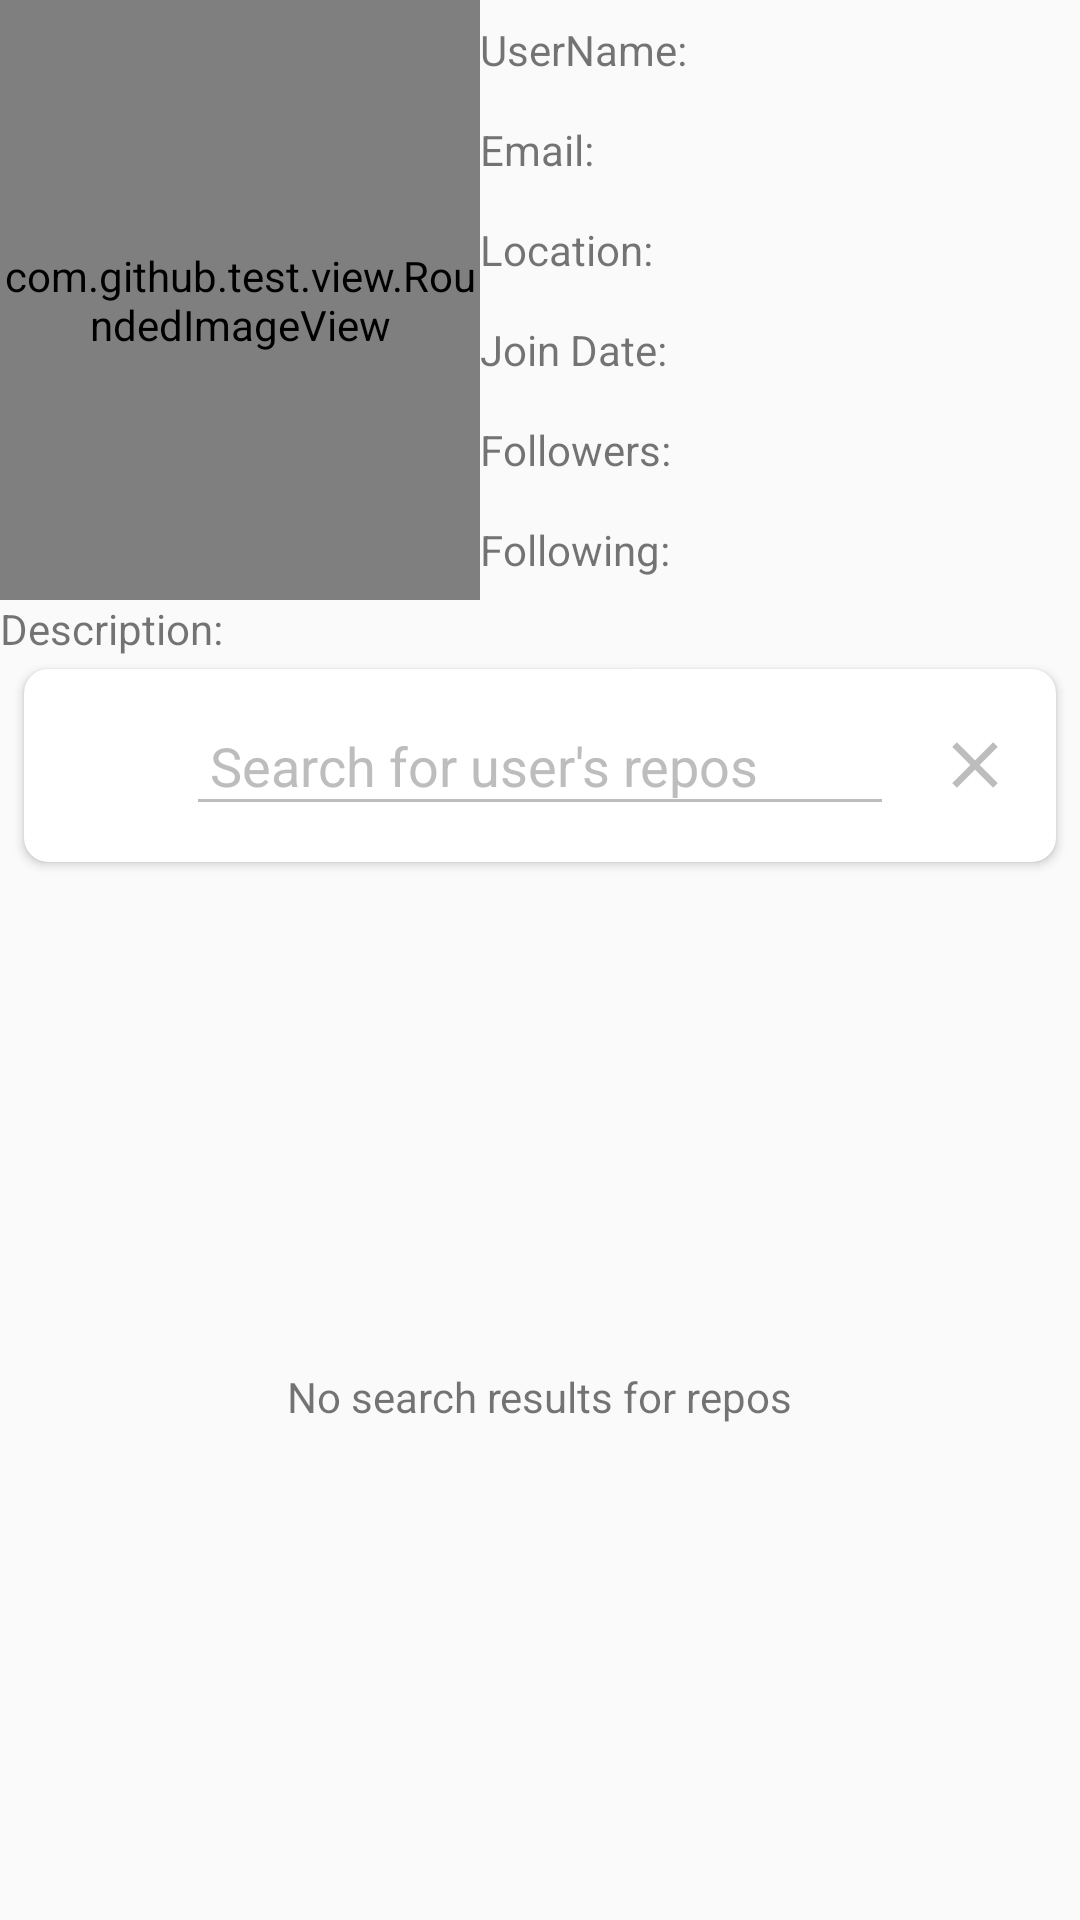

Icons on this 1080w x 1920h Android screen, each with its box as bbox=(x1, y1, x2, y2):
close: bbox=(952, 742, 998, 788)
